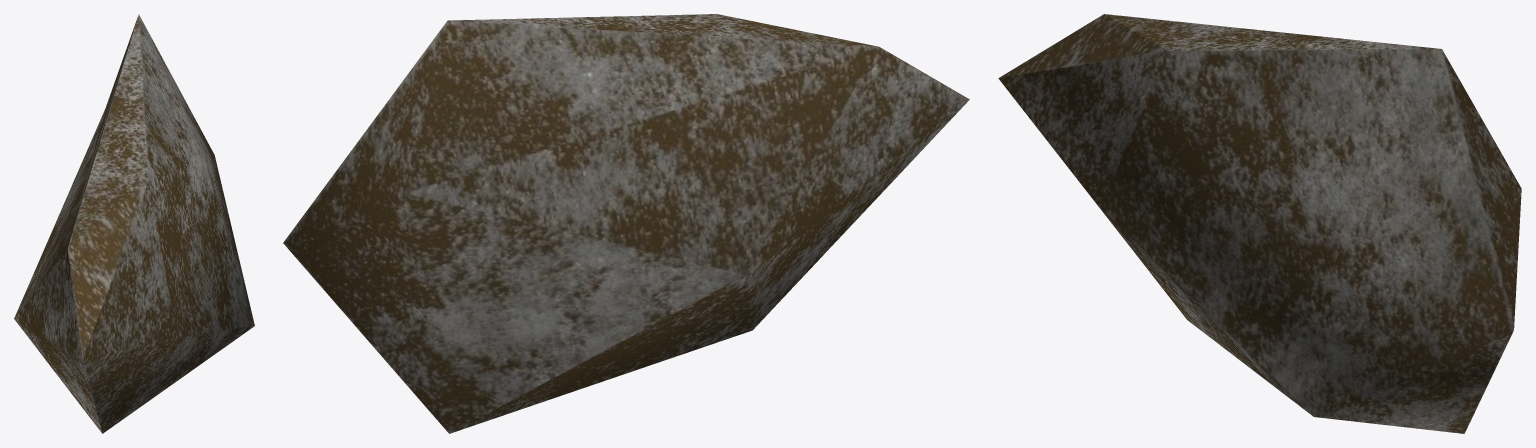
The model's file is Stone 02.fbx.
The picture shows the model from 3 angles, left to right: view 1: azimuth 30°, elevation 25°; view 2: azimuth 150°, elevation 25°; view 3: azimuth 270°, elevation 25°; orthographic projection. The views are drawn at different scales.
Visible parts, largest first — view 1: Stone 02; view 2: Stone 02; view 3: Stone 02.
Part boxes in pixels (x1,y1,x2,y2): Stone 02: (14, 14, 254, 433); Stone 02: (283, 14, 969, 433); Stone 02: (998, 14, 1521, 433).
Size of the model in its own units: 15.84 by 17.47 by 14.41.
1 material, 1 textured.
